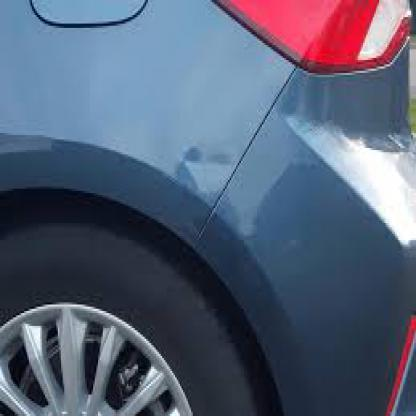dent: (174, 137, 236, 206)
